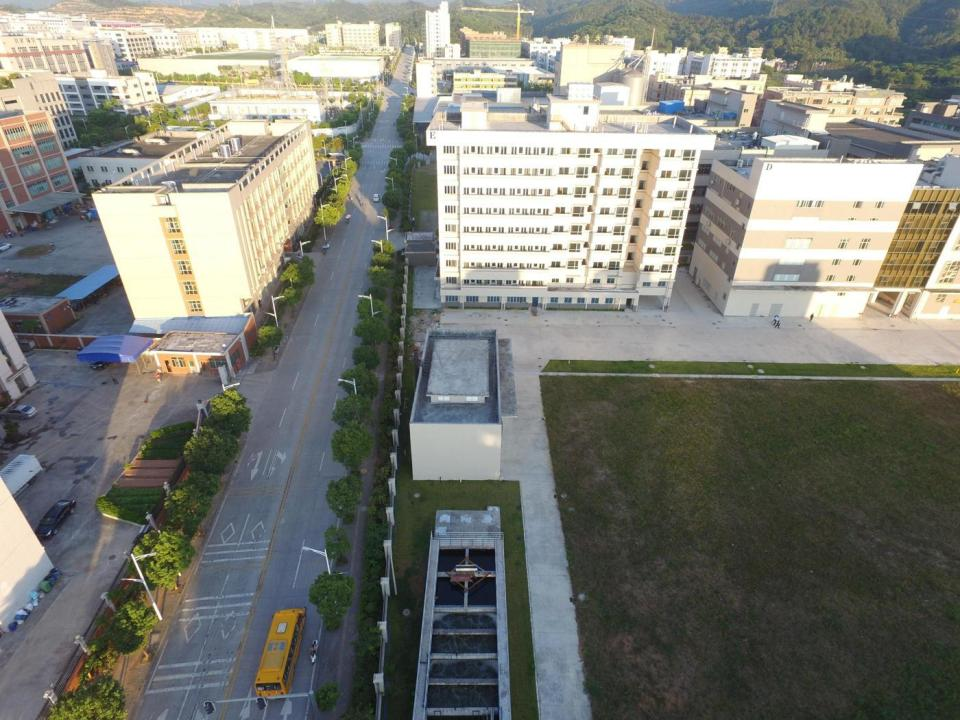bus: (255, 605, 308, 701)
car: (34, 499, 78, 542), (89, 341, 110, 370), (0, 404, 37, 420), (0, 241, 12, 252)
truck: (0, 453, 43, 502)
van: (373, 194, 380, 202)
